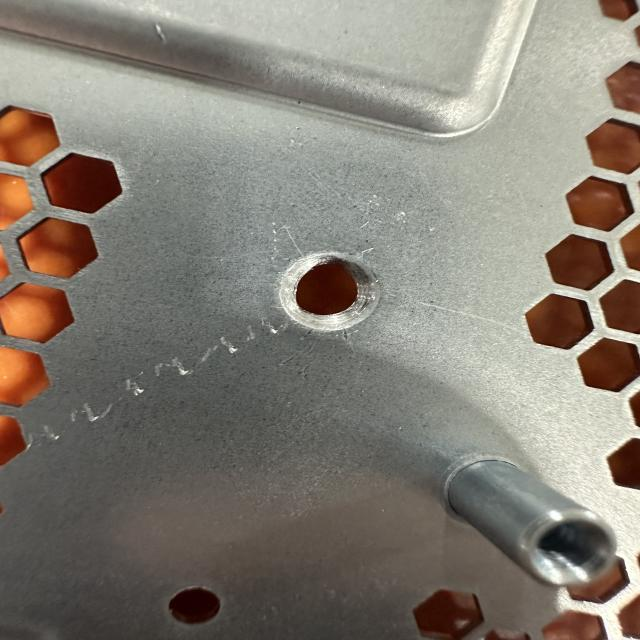Missing screw: (262, 236, 401, 346)
